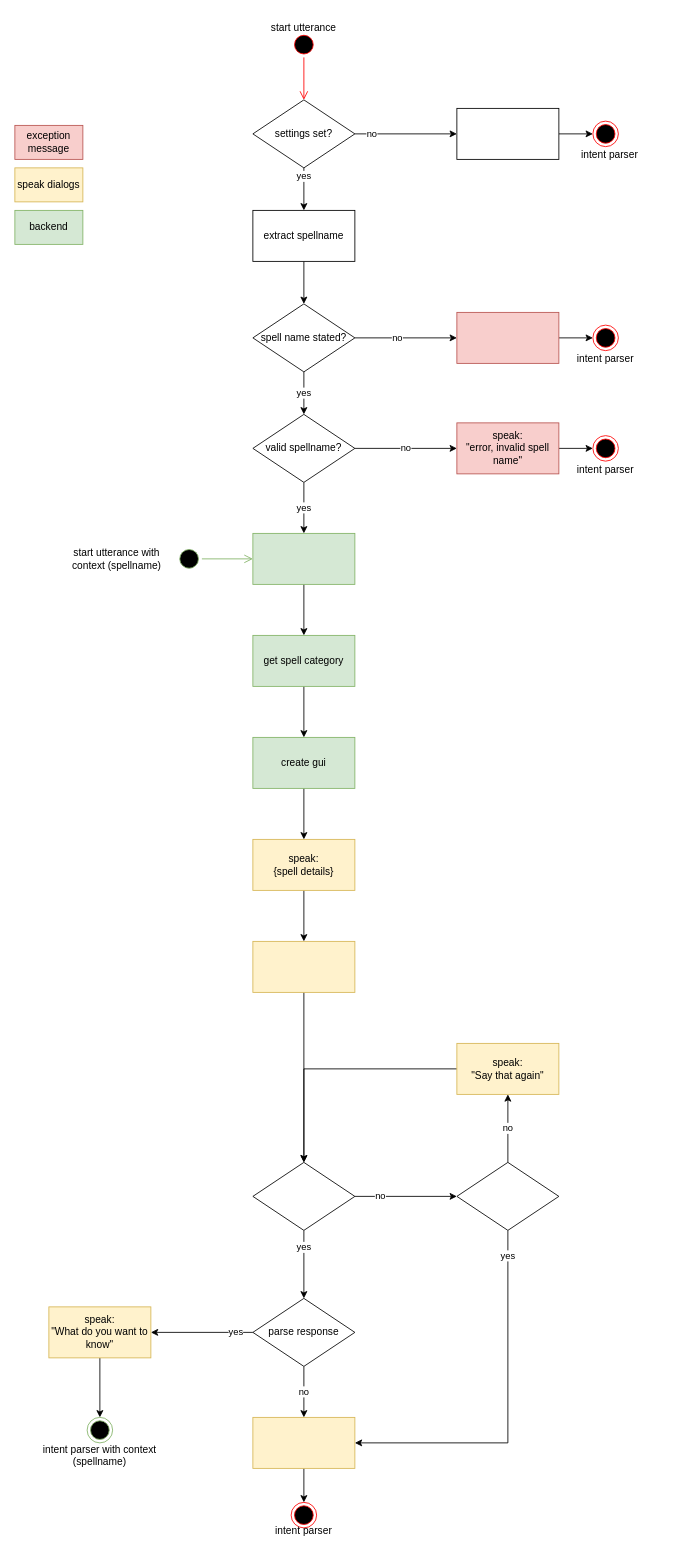
Some shapes in this 676 by 1558 pixel diagram are drawn without their labels. Here are the shapes that lost their labels. From the top down, the centre of each, then its label:
point 507,133: call changeSettings intent
point 507,337: speak: "error, no spell name"
point 303,558: build response
point 303,966: speak: "Want to know something else about {spell}"
point 303,1196: response valid?
point 507,1196: retry limit reached?
point 303,1442: speak: "alright"
